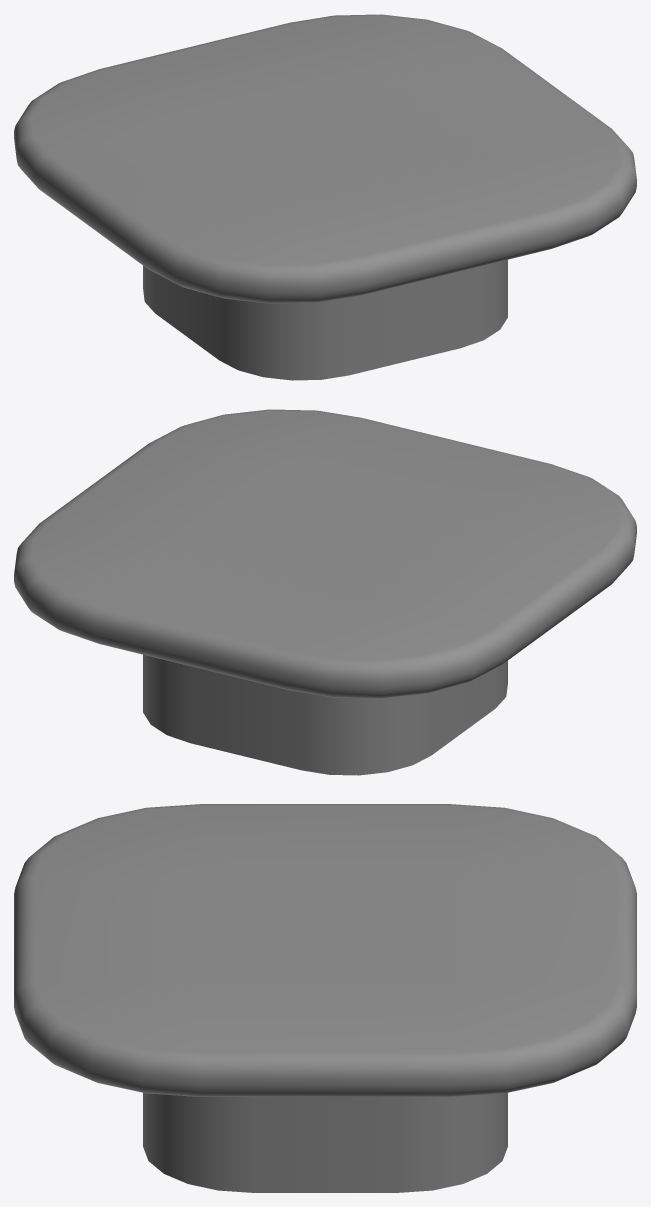
The model's file is CoffeeTable_Sq_Plastic4.glb.
3 renders of one model, top to bottom at view 1: azimuth 30°, elevation 25°; view 2: azimuth 150°, elevation 25°; view 3: azimuth 270°, elevation 25°, orthographic. The views are drawn at different scales.
Parts seen in each view (by area): view 1: Cube.007, Cube; view 2: Cube.007, Cube; view 3: Cube.007, Cube.
Part boxes in pixels (box(x1,y1,x2,y2)): Cube.007: box(14, 14, 636, 303); Cube: box(143, 259, 507, 380); Cube.007: box(14, 409, 636, 698); Cube: box(143, 654, 507, 775); Cube.007: box(14, 804, 636, 1096); Cube: box(143, 1093, 507, 1192).
Size of the model in its own units: 1.53 by 0.5061 by 1.53.
1 material, 1 textured.
